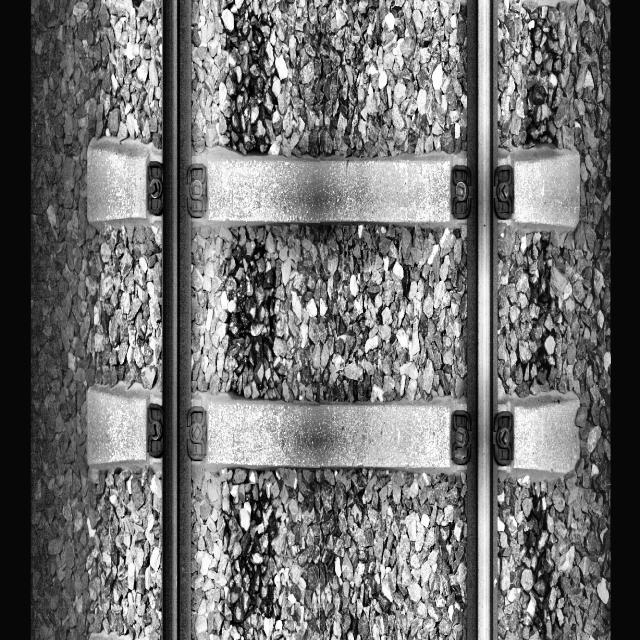Clips: (183, 404, 209, 462), (184, 162, 208, 216), (448, 166, 472, 217), (450, 412, 473, 463), (492, 164, 514, 217), (492, 411, 513, 462), (146, 158, 165, 214), (148, 402, 164, 460)
Sleepers: (87, 134, 584, 245), (84, 382, 583, 482)
